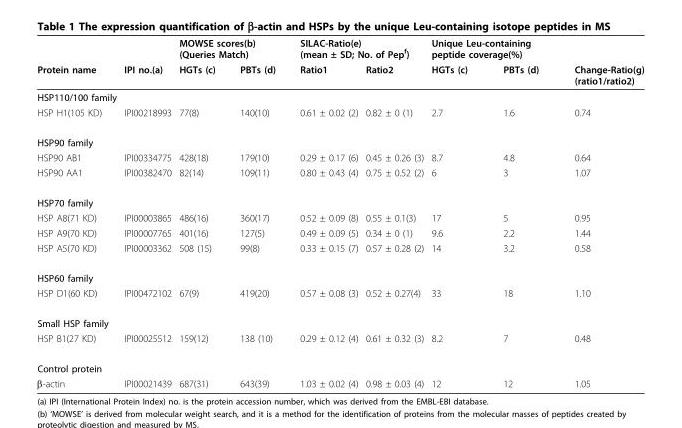table: (36, 36, 643, 388)
table column: (555, 36, 643, 388), (36, 36, 119, 388), (287, 36, 361, 388), (484, 36, 555, 388), (361, 36, 426, 388), (227, 36, 287, 388), (426, 36, 484, 388), (119, 36, 174, 388), (174, 36, 227, 388)
table column header: (36, 36, 643, 88)
table projected row header: (36, 262, 643, 285), (36, 307, 643, 330), (36, 127, 643, 149), (36, 187, 643, 209), (36, 352, 643, 374), (36, 88, 643, 104)
table row: (36, 61, 643, 88), (36, 36, 643, 61), (36, 104, 643, 127), (36, 164, 643, 187), (36, 262, 643, 285), (36, 307, 643, 330), (36, 127, 643, 149), (36, 187, 643, 209), (36, 240, 643, 262), (36, 285, 643, 307), (36, 330, 643, 352), (36, 352, 643, 374), (36, 88, 643, 104), (36, 209, 643, 225), (36, 149, 643, 164), (36, 225, 643, 240), (36, 374, 643, 388)
table spanning cell: (555, 36, 643, 88), (36, 36, 119, 88), (287, 36, 426, 61), (426, 36, 555, 61), (119, 36, 174, 88), (174, 36, 287, 61)
